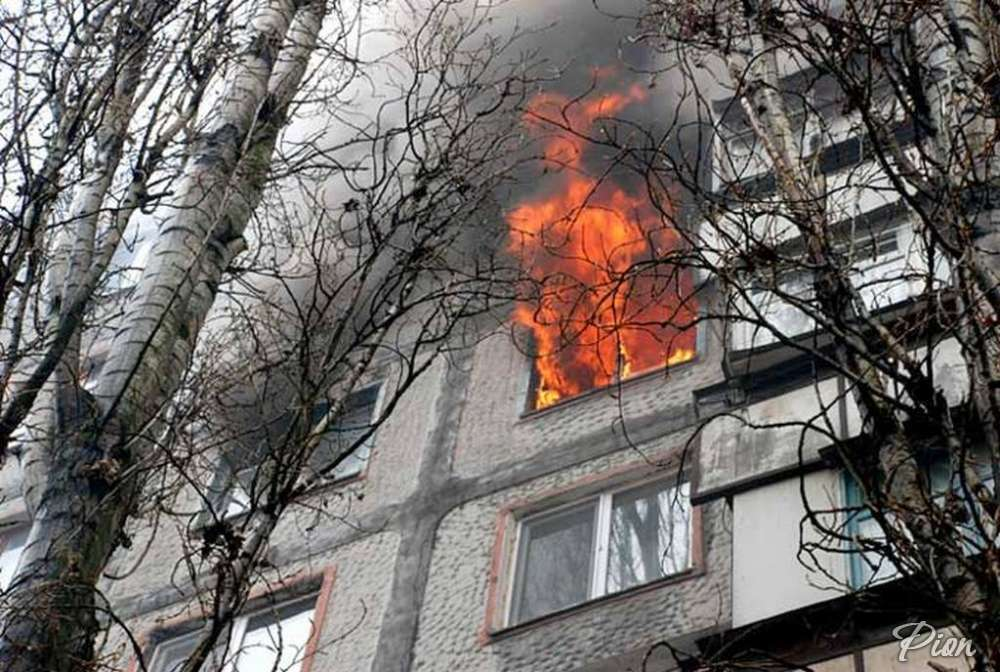fire: (490, 25, 694, 386)
